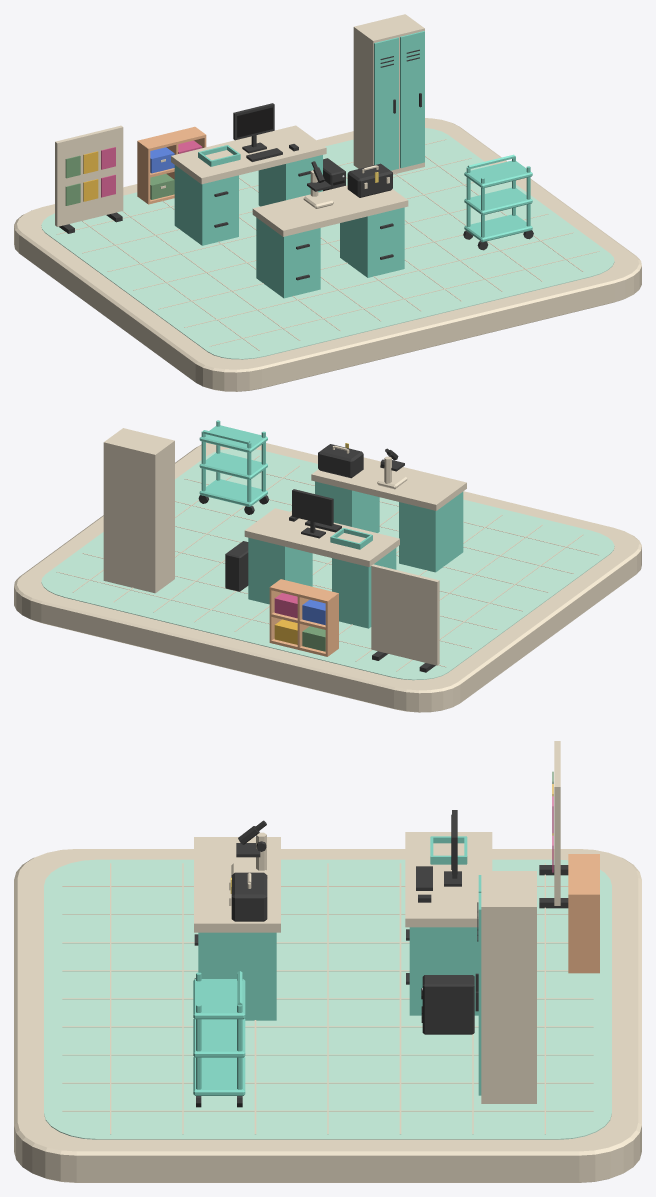
3 renders of one model, top to bottom at view 1: azimuth 30°, elevation 25°; view 2: azimuth 150°, elevation 25°; view 3: azimuth 270°, elevation 25°, orthographic. The views are drawn at different scales.
Visible parts, largest first — view 1: COM-02 Floor Surface, COM-01 Rounded Base Direct, Panel, Case.001, Worktop, Storage module.002, Storage module, Worktop.001, Storage module.001, Door.001, Door, Storage module.003 (+10 smaller); view 2: COM-02 Floor Surface, COM-01 Rounded Base Direct, Case.001, Panel, Storage module, Worktop.001, Worktop, Storage module.003, Storage module.002, Storage module.001, Frame, Case (+10 smaller); view 3: COM-02 Floor Surface, COM-01 Rounded Base Direct, Case.001, Worktop.001, Worktop, Storage module.001, Storage module.003, Tower, Cubbies divider.002, Tray.002, Case, Tray.001 (+11 smaller).
Boxes of the visible parts, <box> form: COM-02 Floor Surface: <box>41,128,614,359</box>; COM-01 Rounded Base Direct: <box>14,118,641,391</box>; Panel: <box>55,125,123,226</box>; Case.001: <box>353,14,424,174</box>; Worktop: <box>252,185,408,236</box>; Storage module.002: <box>174,165,238,245</box>; Storage module: <box>256,217,320,298</box>; Worktop.001: <box>171,125,326,184</box>; Storage module.001: <box>340,207,404,277</box>; Door.001: <box>400,31,424,168</box>; Door: <box>374,37,398,170</box>; Storage module.003: <box>258,155,322,206</box>; COM-02 Floor Surface: <box>41,448,614,680</box>; COM-01 Rounded Base Direct: <box>14,442,641,712</box>; Case.001: <box>103,428,174,593</box>; Panel: <box>371,564,439,665</box>; Storage module: <box>399,492,463,572</box>; Worktop.001: <box>244,508,399,566</box>; Worktop: <box>311,457,466,510</box>; Storage module.003: <box>248,537,312,604</box>; Storage module.002: <box>332,548,396,628</box>; Storage module.001: <box>315,481,379,532</box>; Frame: <box>292,489,333,538</box>; Case: <box>318,444,363,478</box>; COM-02 Floor Surface: <box>44,859,611,1139</box>; COM-01 Rounded Base Direct: <box>14,849,641,1182</box>; Case.001: <box>481,871,536,1103</box>; Worktop.001: <box>405,832,492,927</box>; Worktop: <box>194,837,280,932</box>; Storage module.001: <box>198,932,276,1020</box>; Storage module.003: <box>409,927,478,1015</box>; Tower: <box>422,975,474,1034</box>; Cubbies divider.002: <box>568,894,599,973</box>; Tray.002: <box>193,979,245,1019</box>; Case: <box>231,872,267,921</box>; Tray.001: <box>193,1018,245,1057</box>.
Size of the model in its own units: 6 by 2.1 by 5.2.
Materials: 1 (1 with a texture image).
